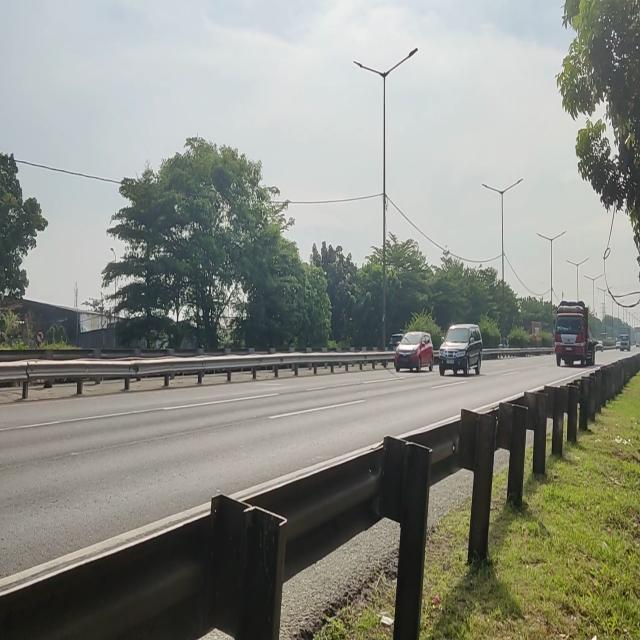Golongan I: (435, 311, 485, 381), (386, 323, 436, 378)
